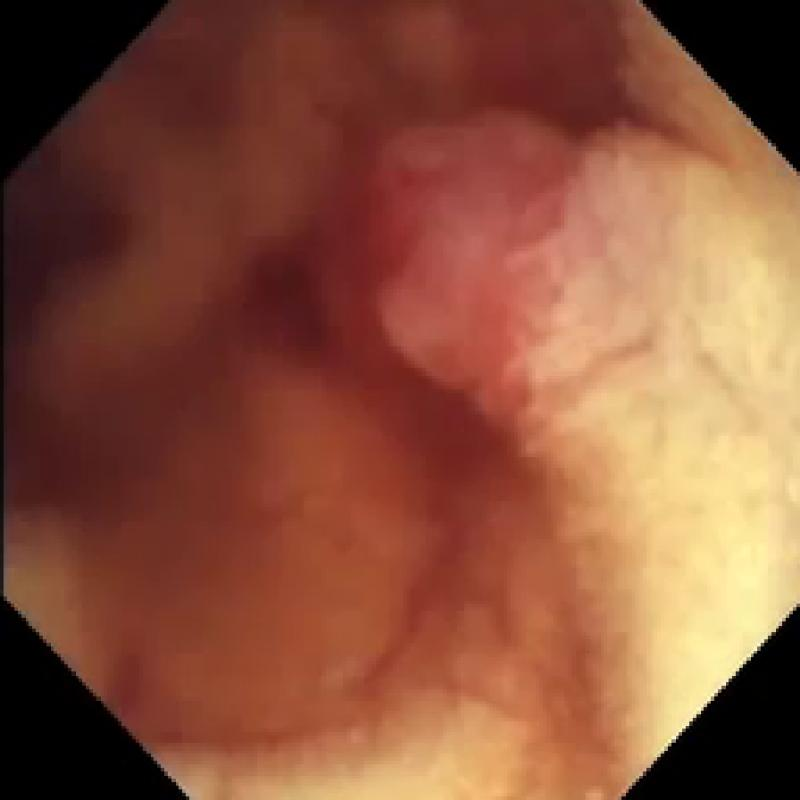bleeding: (189, 64, 593, 618)
